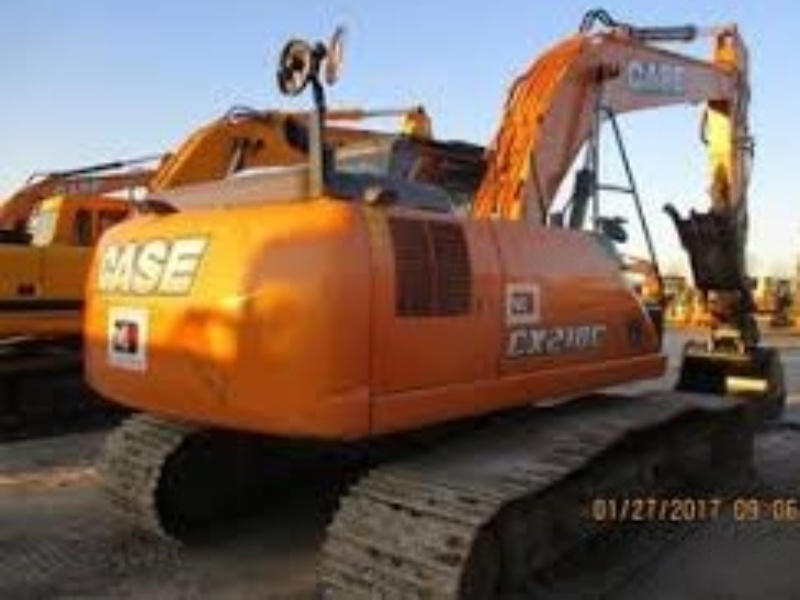wajueji: (104, 18, 770, 600)
